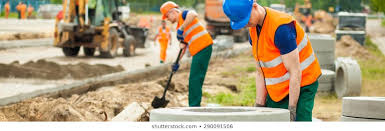hard hat: (224, 1, 252, 30), (161, 1, 178, 20)
high-vis: (248, 9, 322, 100), (176, 12, 212, 56)
